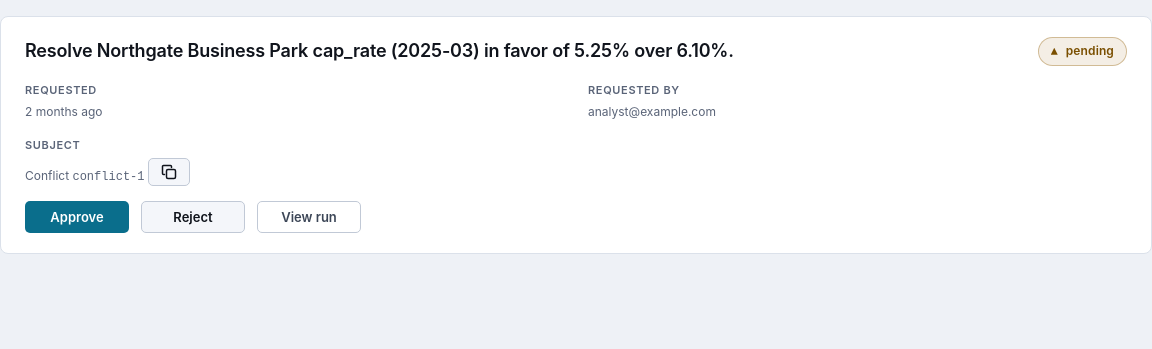
Test: DecisionCase › shows an error when "View run" finds no run for the workflow
What coordinates should you click on to do the following:
click the button "View run"
I would click on:
 (309, 217)
Its box is 257,201 -> 361,233.
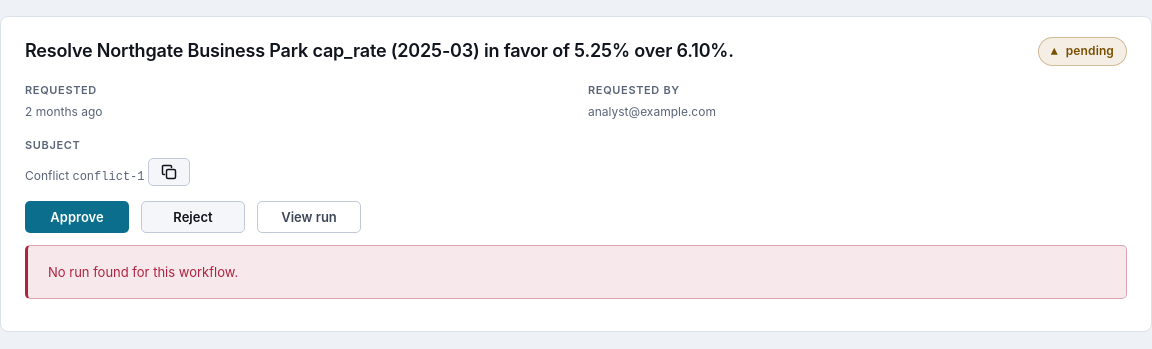
Now the text "No run found for this workflow." is shown, box 48,264 -> 238,280
